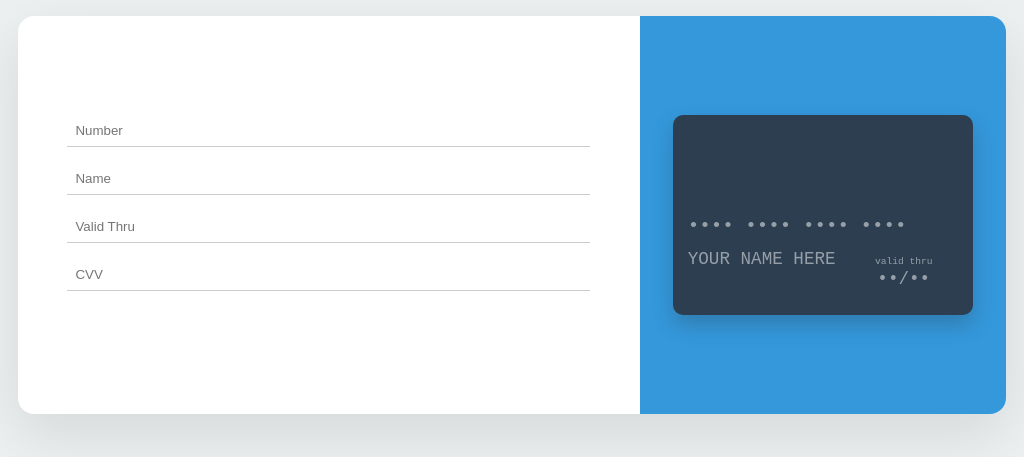
Test: App › Input handlers › presents the name without transformation
This screenshot has width=1024, height=457.
Type "John Doe" into the field with placeholder "Name".
click(329, 179); type("John Doe")  # box [67, 163, 590, 195]
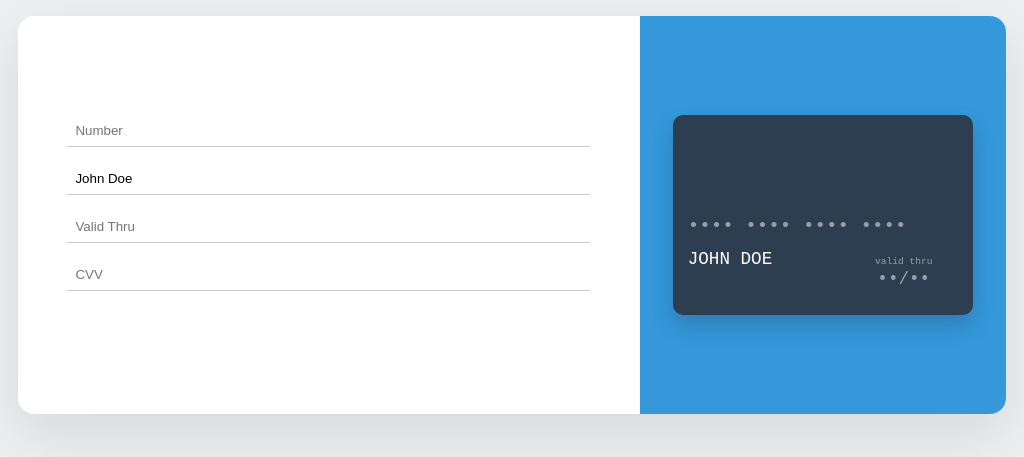
Now the text "John Doe" is shown, box [688, 249, 772, 269]
